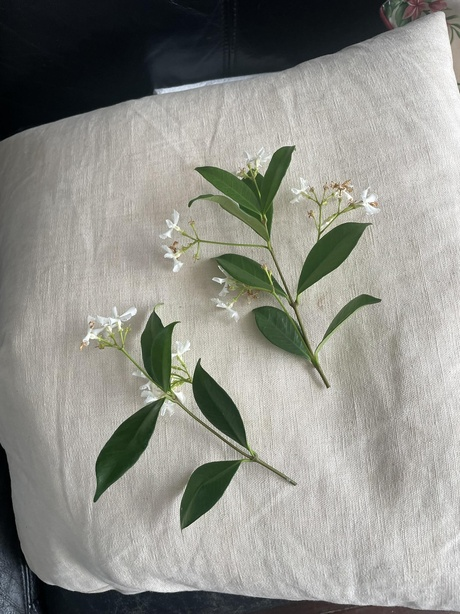leaf: (89, 395, 171, 501), (189, 355, 249, 447), (298, 220, 373, 292), (177, 457, 244, 529), (249, 304, 314, 362), (132, 307, 176, 391), (211, 253, 285, 297)
